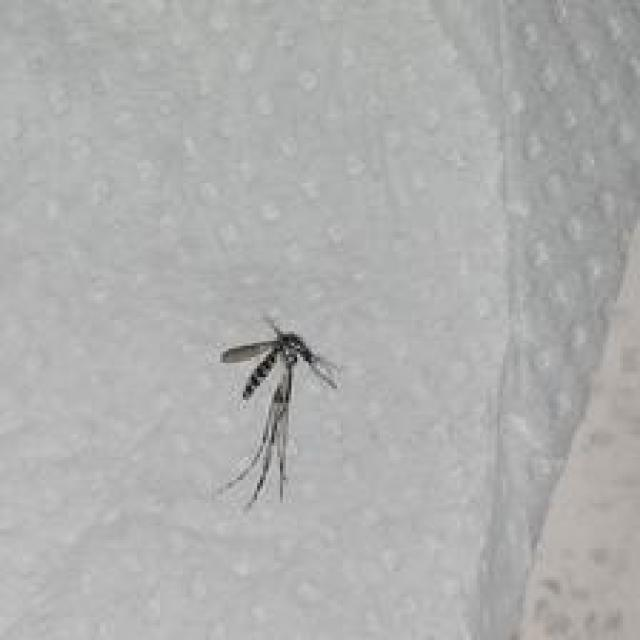Aedes albopictus: (216, 314, 341, 509)
